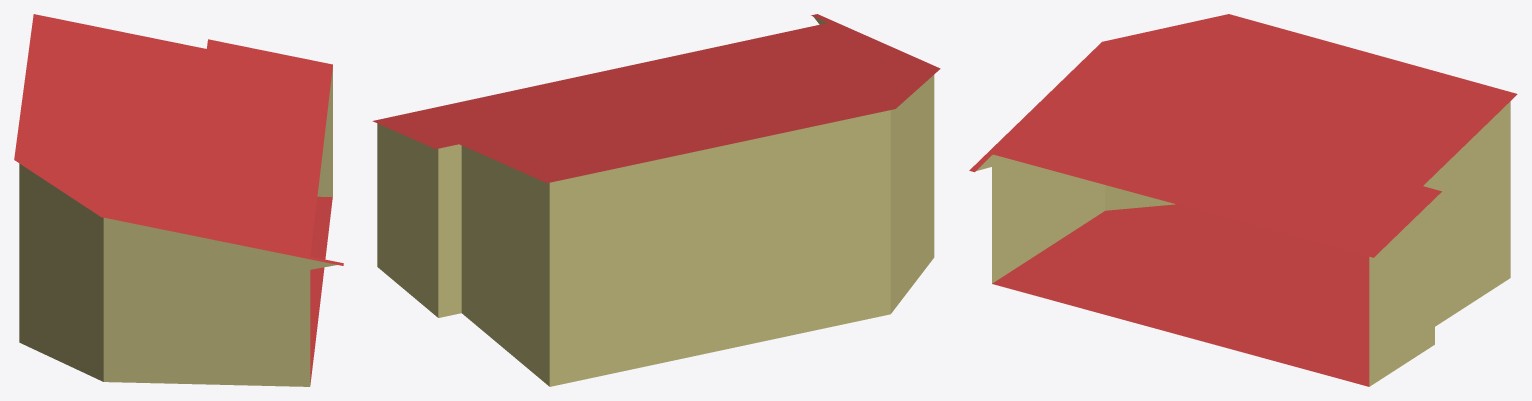
3 renders of one model, left to right at view 1: azimuth 30°, elevation 25°; view 2: azimuth 150°, elevation 25°; view 3: azimuth 270°, elevation 25°, orthographic. The views are drawn at different scales.
Size of the model in its own units: 21.5 by 26.14 by 9.63.
